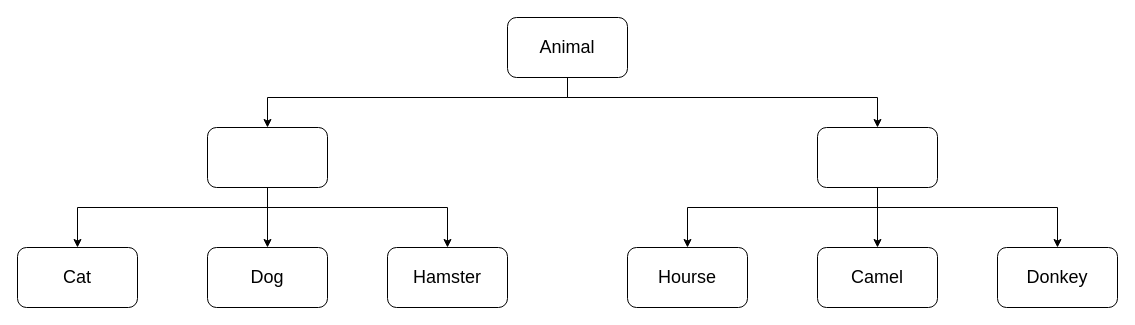
Image size: 1135x325. Some labels were removed from this diagram. The centre of each missing label's shape, as x and y in pixels:
"Pack Animal" goes at (877,157).
"Pet" goes at (267,157).
